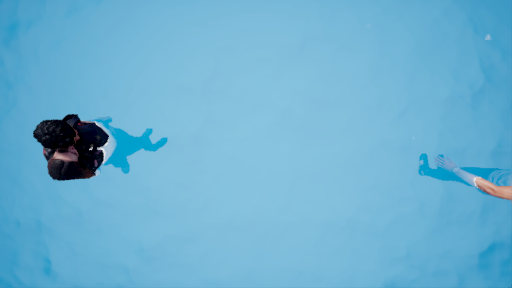person: (28, 113, 170, 184)
